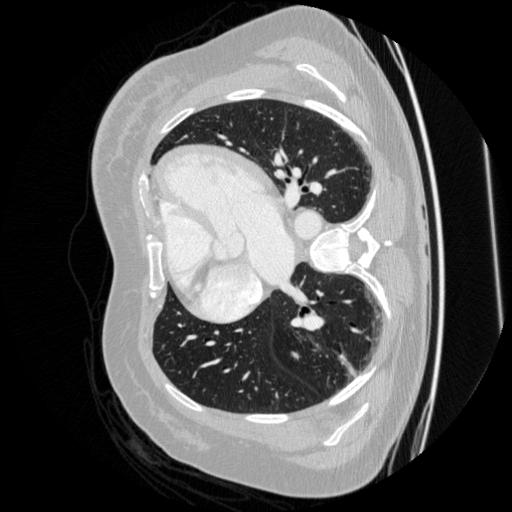nodule: (289, 350, 303, 364)
